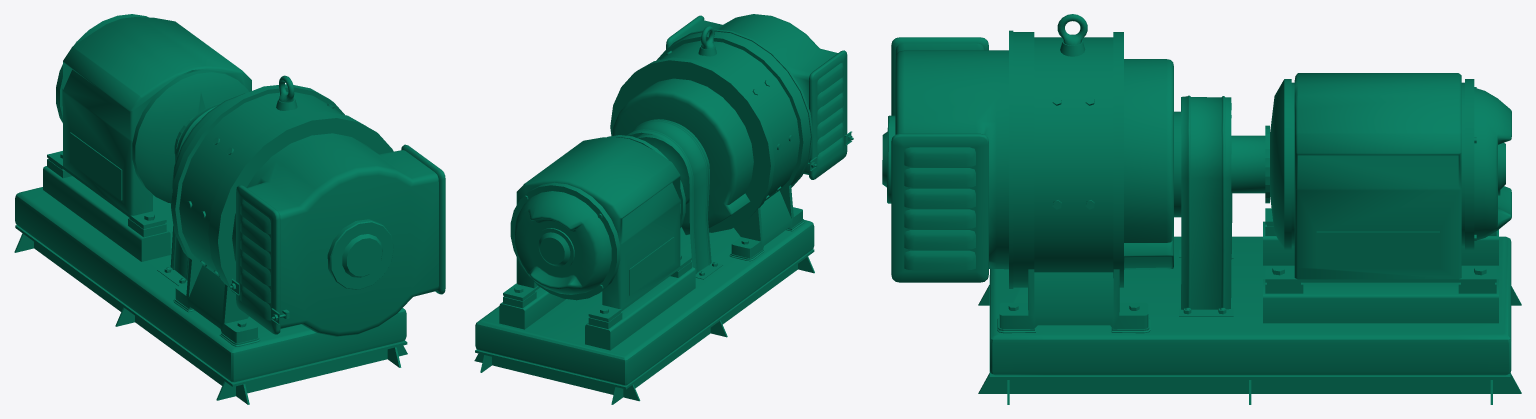
Rendered from Engine9.fbx.
3 views of the same model, side by side, from view 1: azimuth 30°, elevation 25°; view 2: azimuth 150°, elevation 25°; view 3: azimuth 270°, elevation 25° (orthographic). The views are drawn at different scales.
Parts seen in each view (by area): view 1: Stuff.004; view 2: Stuff.004; view 3: Stuff.004.
Boxes of the visible parts, left/top/right/bottom form: Stuff.004: left=14, top=14, right=445, bottom=404; Stuff.004: left=474, top=14, right=853, bottom=404; Stuff.004: left=882, top=14, right=1521, bottom=404.
Size of the model in its own units: 66.7 by 93.76 by 162.
